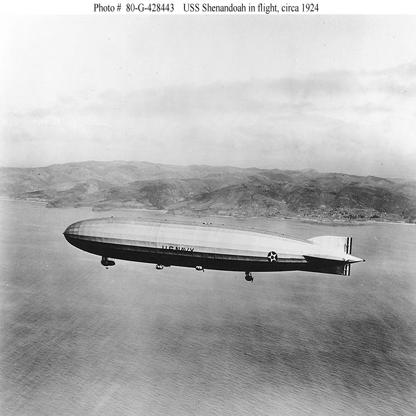Airship: (58, 211, 369, 296)
